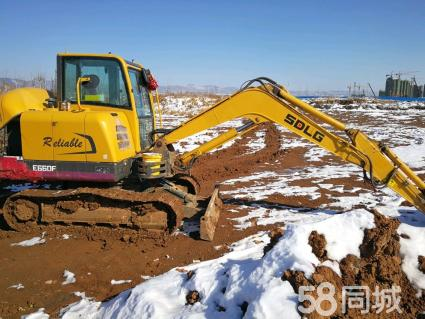excavator: (2, 49, 424, 243)
